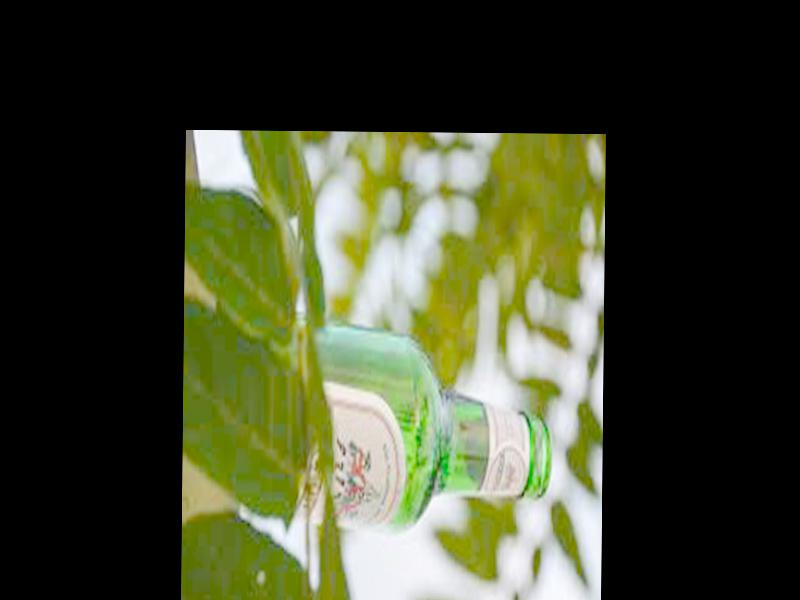Beer: (289, 327, 553, 531)
